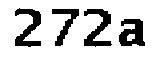2: (10, 5, 44, 51), (83, 8, 116, 50)
7: (47, 5, 81, 52)
a: (119, 15, 151, 54)
